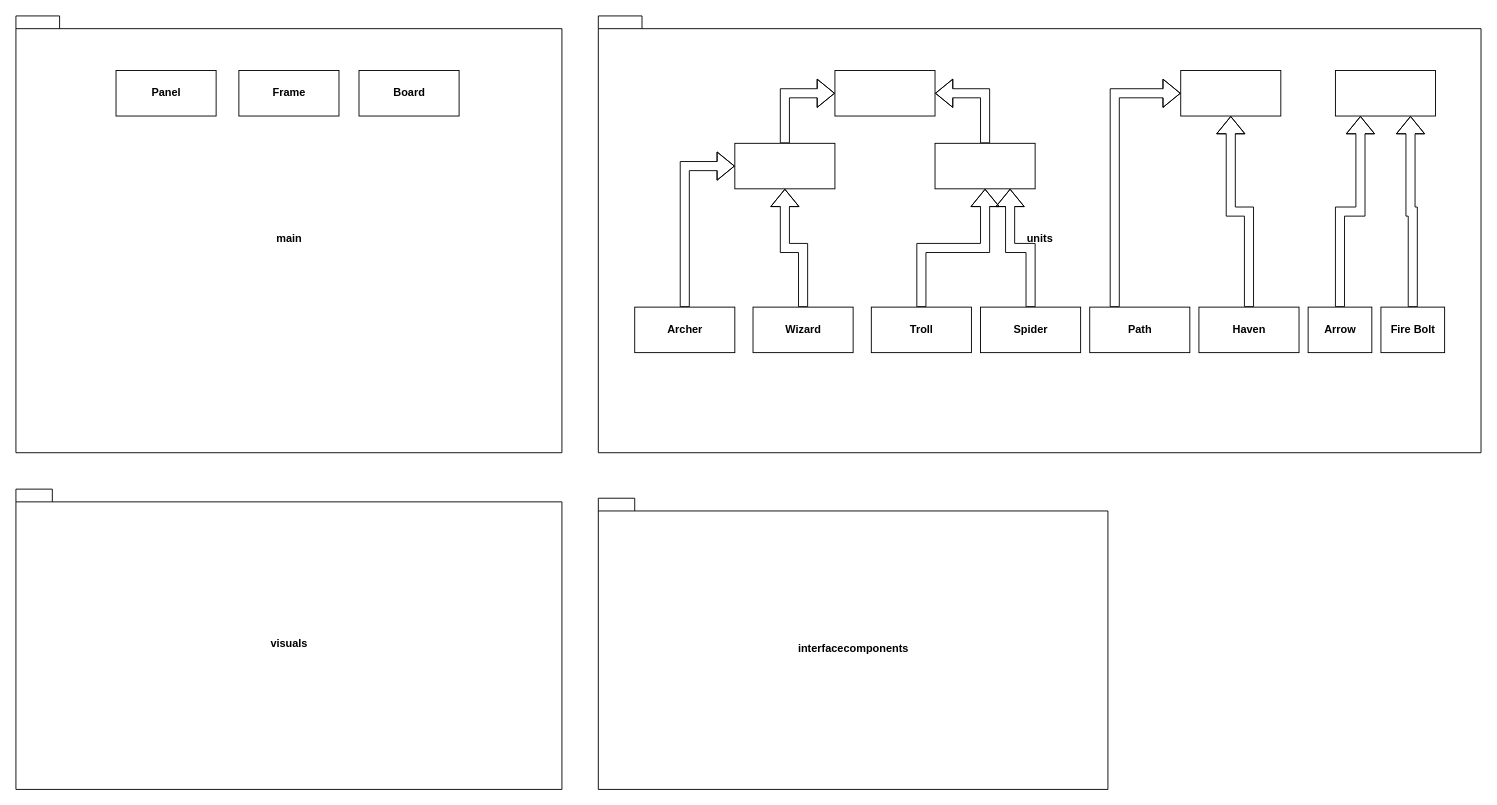
Image size: 1497x805. Some labels were removed from this diagram. The centre of each missing label's shape, as x and y in pixels:
"Block" belongs at point (1230, 93).
"Entity" belongs at point (984, 165).
"Projectile" belongs at point (1385, 93).
"Selectable" belongs at point (884, 93).
"Tower" belongs at point (784, 165).
